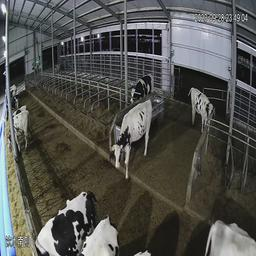cow: (109, 99, 155, 187), (32, 191, 94, 253), (81, 214, 123, 255), (2, 105, 33, 157), (219, 211, 255, 255), (186, 83, 214, 128), (128, 66, 155, 98), (3, 78, 22, 110)
